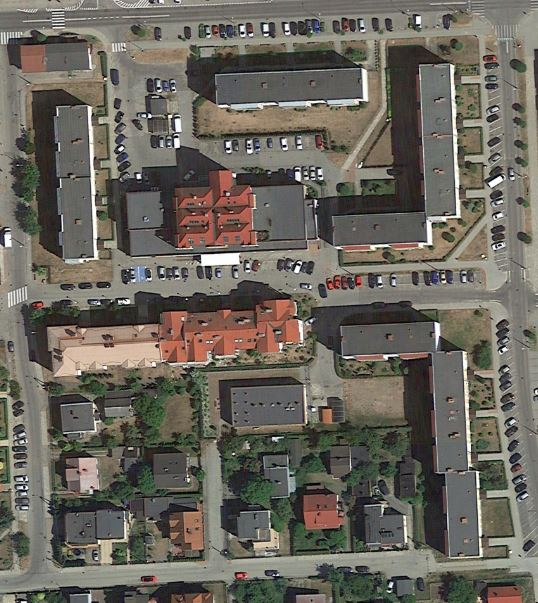block of flats: (337, 320, 484, 563), (332, 61, 463, 251), (44, 295, 301, 381), (122, 164, 318, 265), (48, 102, 102, 264), (210, 64, 371, 114)
family house: (224, 385, 313, 428), (58, 509, 127, 549), (361, 502, 407, 548), (168, 508, 213, 552), (232, 505, 277, 549), (300, 489, 345, 533), (148, 449, 192, 490), (55, 398, 99, 439), (61, 455, 103, 497)
garage: (15, 40, 98, 76), (259, 453, 292, 502), (397, 445, 421, 500)
